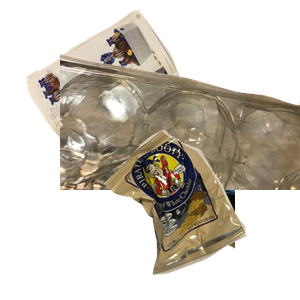glass: (60, 128, 300, 300)
paper: (24, 10, 235, 190)
plastic: (60, 52, 300, 232)
trash: (101, 127, 300, 300)
